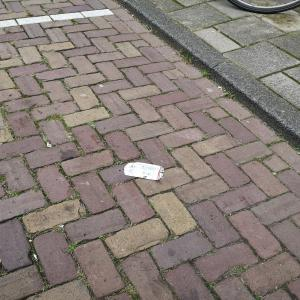Can: (122, 160, 172, 186)
